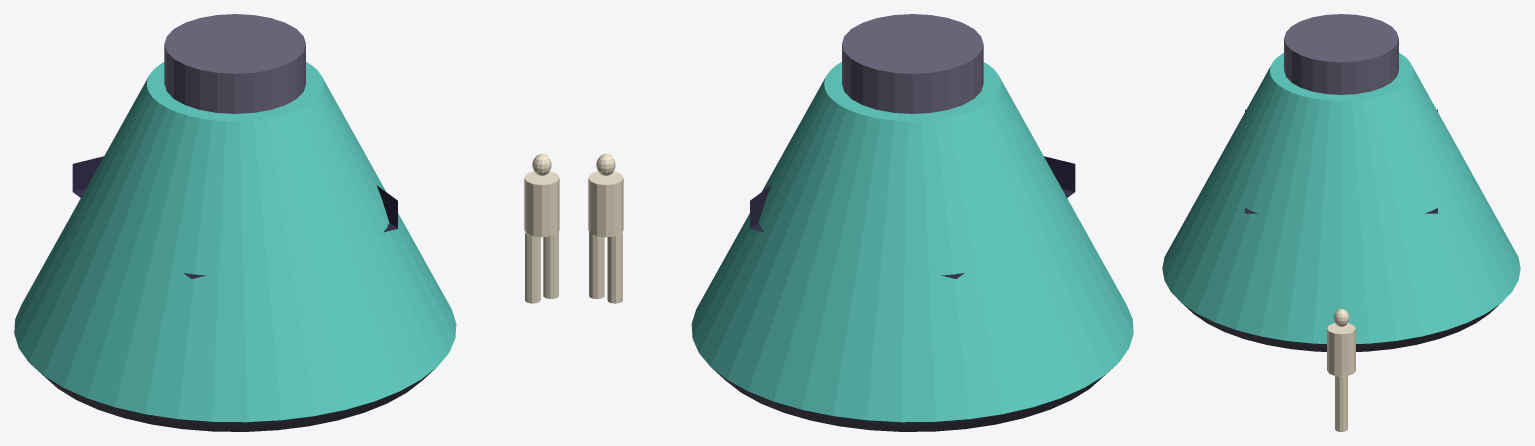
The model's file is lucifer_return_capsule.obj.
3 views of the same model, side by side, from view 1: azimuth 30°, elevation 25°; view 2: azimuth 150°, elevation 25°; view 3: azimuth 270°, elevation 25° (orthographic). The views are drawn at different scales.
Visible parts, largest first — view 1: capsule, docking_ring, person, heatshield, windows; view 2: capsule, docking_ring, person, heatshield, windows; view 3: capsule, docking_ring, person, heatshield.
Boxes of the visible parts, x1,y1,x2,y2 form: capsule: (14, 62, 456, 422); docking_ring: (164, 14, 305, 113); person: (524, 153, 559, 303); heatshield: (34, 367, 435, 431); windows: (72, 156, 397, 278); capsule: (691, 62, 1133, 422); docking_ring: (842, 14, 983, 113); person: (588, 153, 623, 303); heatshield: (712, 367, 1113, 431); windows: (750, 156, 1075, 278); capsule: (1162, 53, 1520, 343); docking_ring: (1284, 14, 1398, 94); person: (1327, 309, 1355, 431); heatshield: (1182, 303, 1500, 351).
Bounding box in the file's own units: 6.71 × 4.1 × 5.
